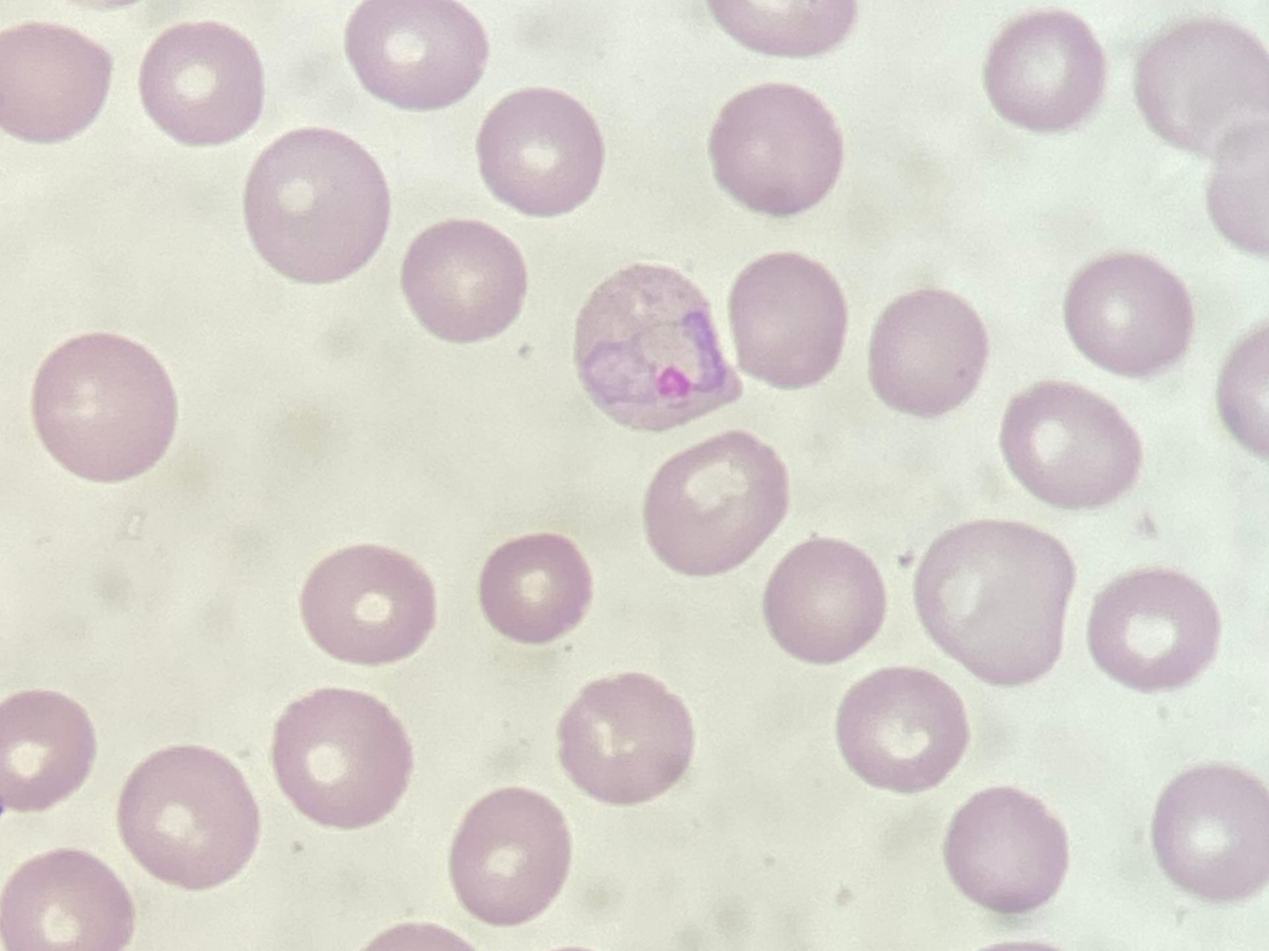Infected: (575, 265, 746, 432)
Uninfected: (917, 516, 1074, 682), (243, 128, 387, 282), (648, 427, 791, 578), (36, 334, 177, 483), (121, 752, 263, 890), (273, 691, 408, 828), (1003, 379, 1145, 509), (562, 669, 700, 800), (448, 790, 573, 929), (1142, 19, 1269, 155), (712, 85, 840, 217), (301, 546, 438, 668), (838, 666, 969, 791), (947, 788, 1071, 919), (1089, 567, 1218, 692), (479, 91, 606, 217), (1157, 764, 1269, 904), (763, 542, 890, 665), (344, 0, 488, 107), (1066, 256, 1195, 374), (734, 255, 847, 387), (872, 289, 989, 415), (985, 9, 1104, 132), (402, 223, 527, 340), (139, 22, 259, 143), (0, 851, 134, 951), (4, 23, 115, 143), (0, 690, 98, 818), (480, 533, 592, 643)
